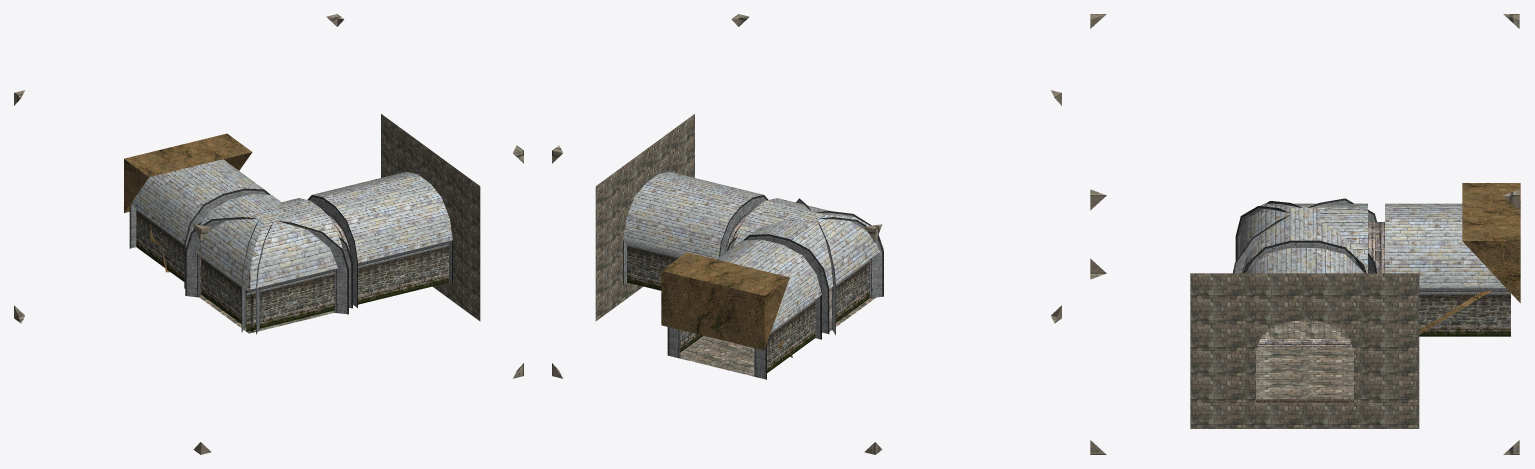
The model's file is lbg_1h.glb.
3 views of the same model, side by side, from view 1: azimuth 30°, elevation 25°; view 2: azimuth 150°, elevation 25°; view 3: azimuth 270°, elevation 25° (orthographic). The views are drawn at different scales.
Parts seen in each view (by area): view 1: lbg_1h; view 2: lbg_1h; view 3: lbg_1h.
Boxes of the visible parts, left/top/right/bottom form: lbg_1h: left=14, top=14, right=523, bottom=454; lbg_1h: left=552, top=14, right=1061, bottom=454; lbg_1h: left=1090, top=14, right=1520, bottom=454.
Bounding box in the file's own units: 15 × 10 × 15.04.
Materials: 7 (7 with a texture image).
